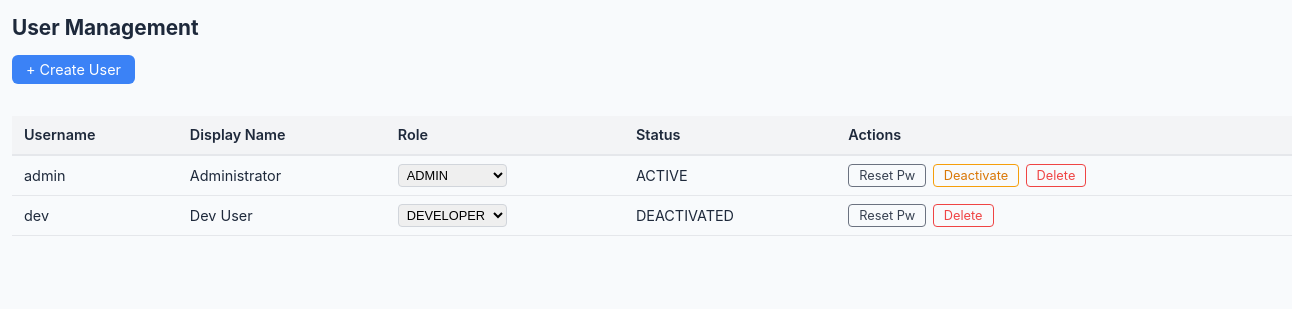
Test: UsersPage › shows the Create User form when the open button is clicked
Check: the text "admin" is shown, box x1=12 y1=155 x2=178 y2=196
Click the button "+ Create User": x=74, y=70 x1=12 y1=55 x2=135 y2=84
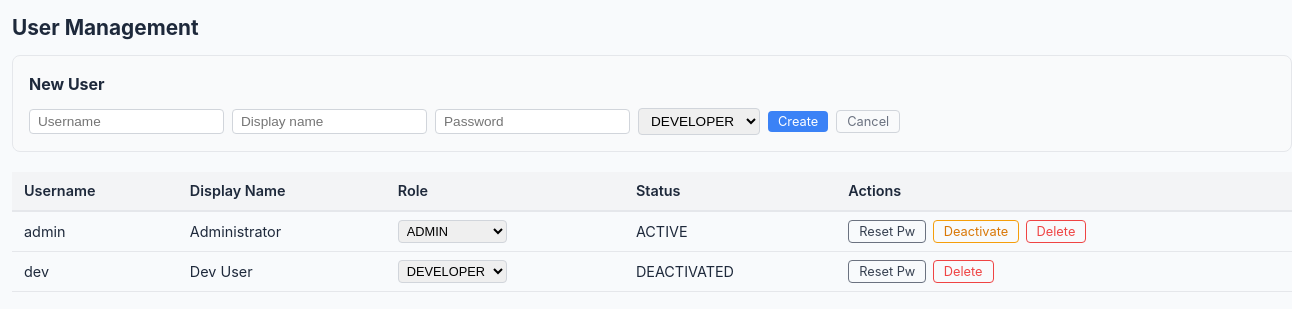
Check: the field with placeholder "Username" is shown, box x1=29 y1=109 x2=224 y2=134
Check: the field with placeholder "Display name" is shown, box x1=232 y1=109 x2=427 y2=134
